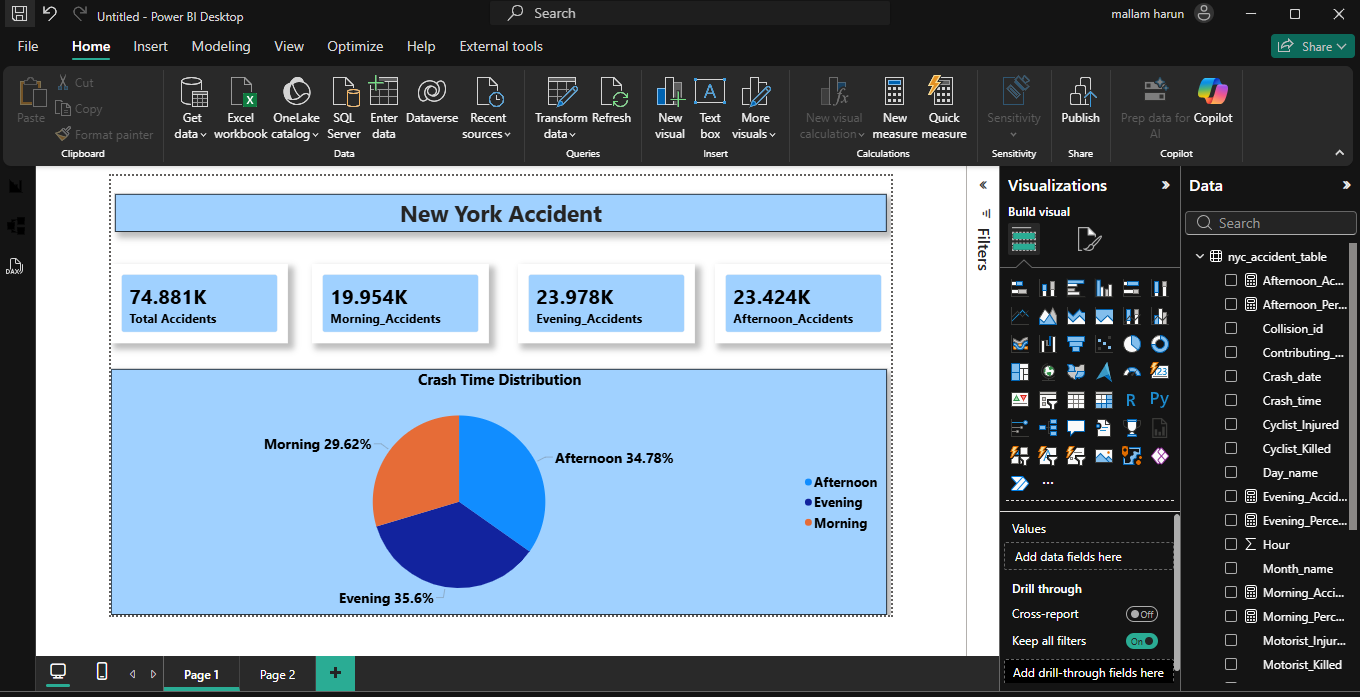

Layout of this report page (visuals, bound fields, positions):
{"tool":"powerbi","page":{"name":"Page 1","canvas":[1280,720],"ordinal":0},"visuals":[{"type":"textbox","box":[6.7,30.2,1264.9,62.2],"z":0},{"type":"cardVisual","fields":{"Data":["nyc_accident_table.Morning_Accidents"]},"box":[330.1,144.3,290.2,129.5],"z":1000},{"type":"cardVisual","fields":{"Data":["nyc_accident_table.Afternoon_Accidents"]},"box":[989.8,144.3,290.2,129.5],"z":2000},{"type":"cardVisual","fields":{"Data":["nyc_accident_table.Evening_Accidents"]},"box":[667.2,144.3,290.2,129.5],"z":3000},{"type":"cardVisual","title":"Total Accident","fields":{"Data":["nyc_accident_table.Total Accidents"]},"box":[0,144.3,290.2,129.5],"z":4000},{"type":"pieChart","title":"Crash Time Distribution","fields":{"Y":["nyc_accident_table.Afternoon_Percentage","nyc_accident_table.Evening_Percentage","nyc_accident_table.Morning_Percentage"]},"box":[0,316.4,1272.1,403.3],"z":5000}]}

Visuals, with their boxes on the page's 1280x720 design canvas (x1, y1, x2, y2). These are canvas units, not pixel positions in the 1360x697 screenshot, which may show the page scaled, cropped or inside an application window:
textbox: l=7, t=30, r=1272, b=92
cardVisual - nyc_accident_table.Morning_Accidents: l=330, t=144, r=620, b=274
cardVisual - nyc_accident_table.Afternoon_Accidents: l=990, t=144, r=1280, b=274
cardVisual - nyc_accident_table.Evening_Accidents: l=667, t=144, r=957, b=274
"Total Accident" cardVisual: l=0, t=144, r=290, b=274
"Crash Time Distribution" pieChart: l=0, t=316, r=1272, b=720
